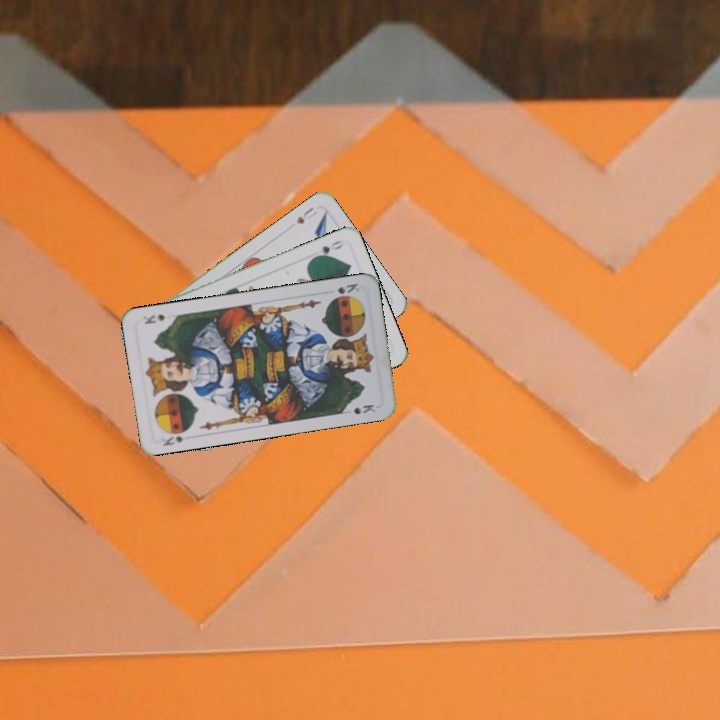GO: (309, 236, 346, 261)
HU: (292, 203, 319, 226)
SK: (333, 279, 363, 296), (158, 432, 187, 449)
